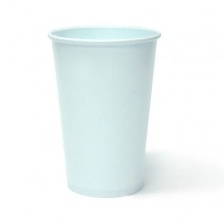paper_cup: (43, 19, 164, 201)
